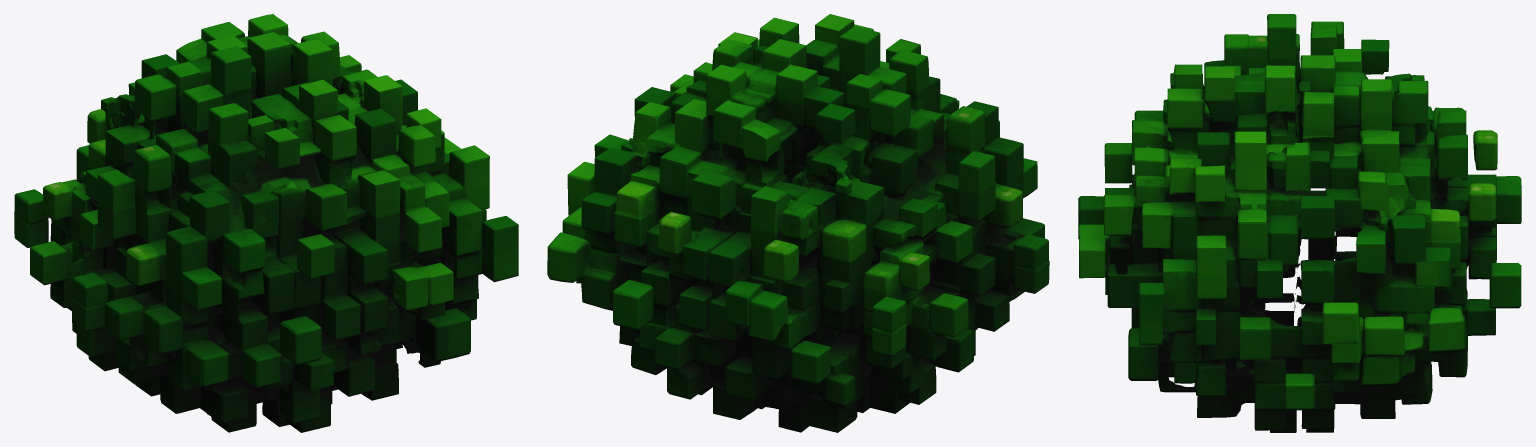
Rendered from bush.glb.
The picture shows the model from 3 angles, left to right: view 1: azimuth 30°, elevation 25°; view 2: azimuth 150°, elevation 25°; view 3: azimuth 270°, elevation 25°; orthographic projection.
Parts seen in each view (by area): view 1: geometry_0.007; view 2: geometry_0.007; view 3: geometry_0.007.
Boxes of the visible parts, bbox=[...] form: geometry_0.007: bbox=[14, 14, 518, 432]; geometry_0.007: bbox=[547, 14, 1049, 432]; geometry_0.007: bbox=[1078, 14, 1521, 432].
Bounding box in the file's own units: 0.4408 × 0.3713 × 0.4066.
Materials: 1 (1 with a texture image).
